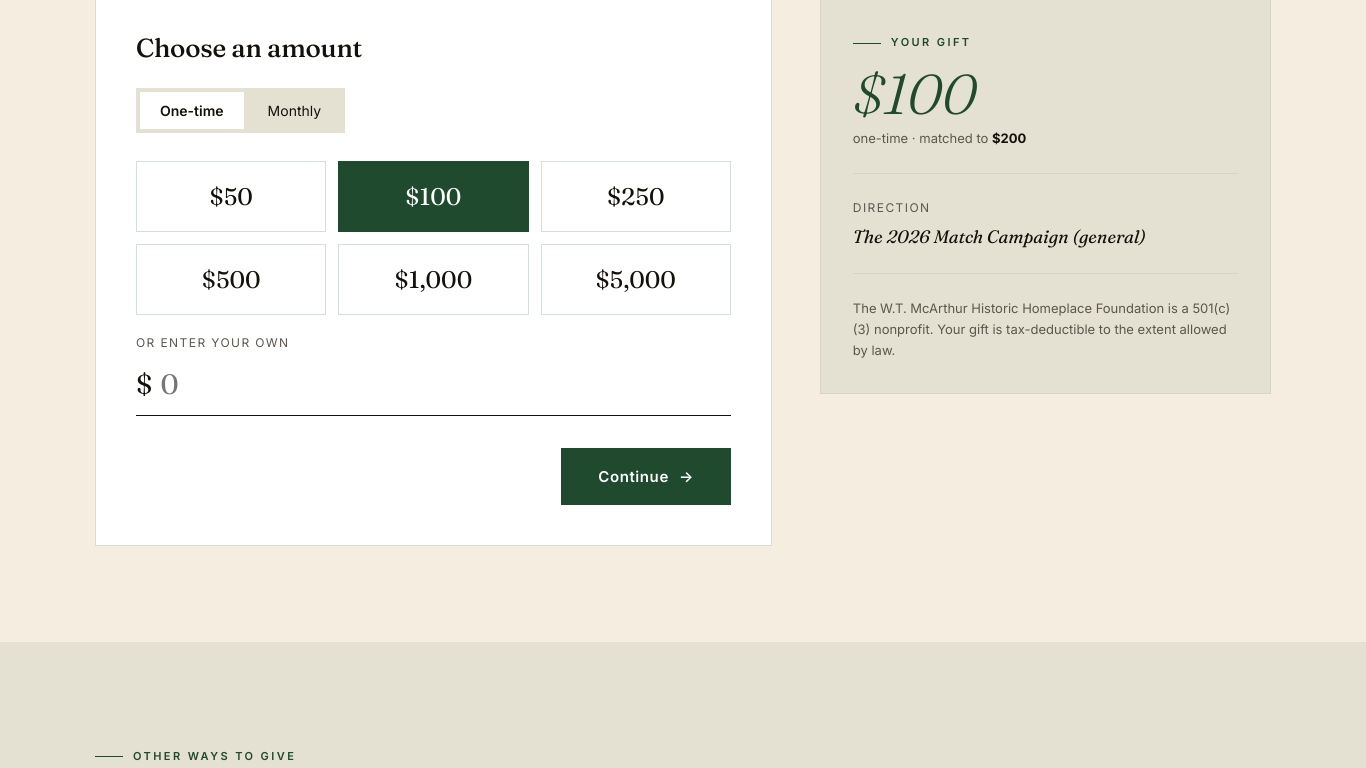
Test: DonateForm step machine › accepts a custom amount and continues
(page scrolled)
In the number field with placeholder "0": (442, 384) [152,363,731,405], type "275"
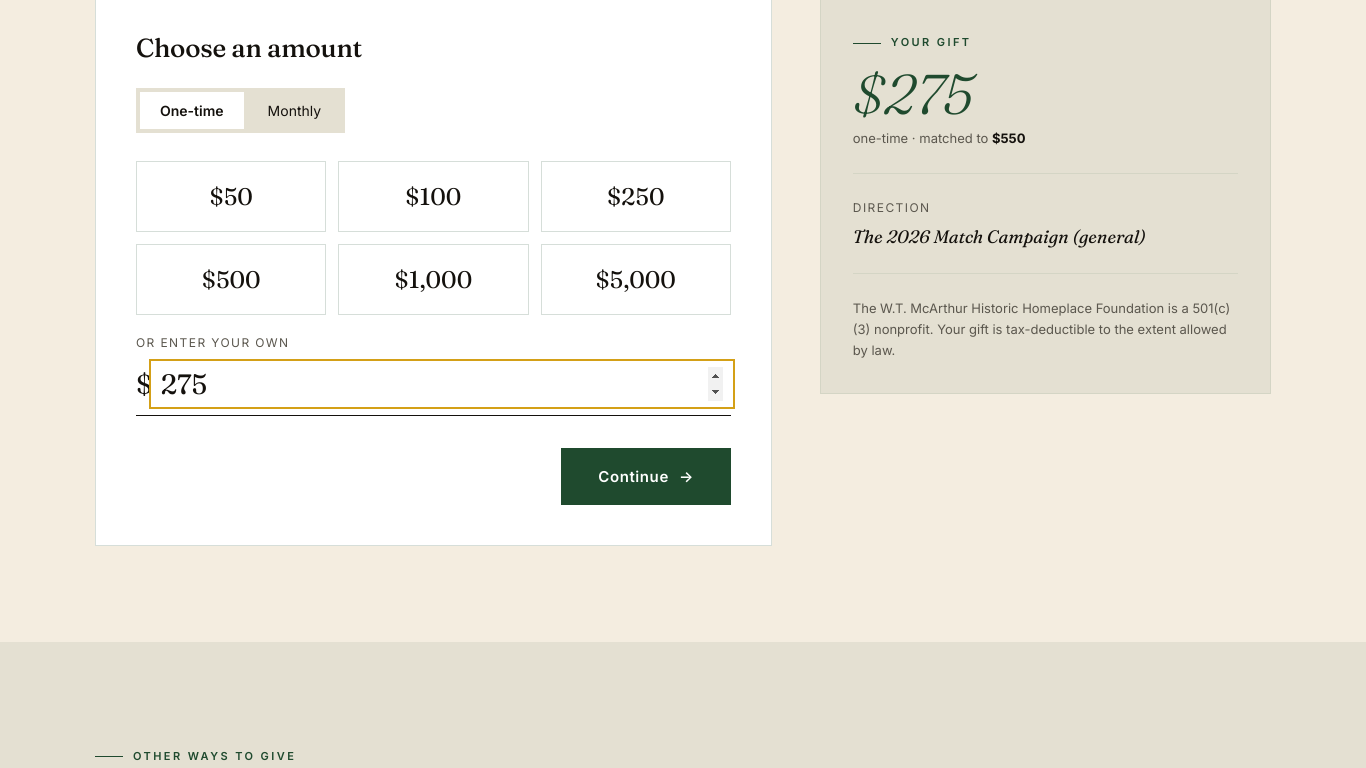
Click the button "Continue →": click(646, 476) [561,448,731,505]
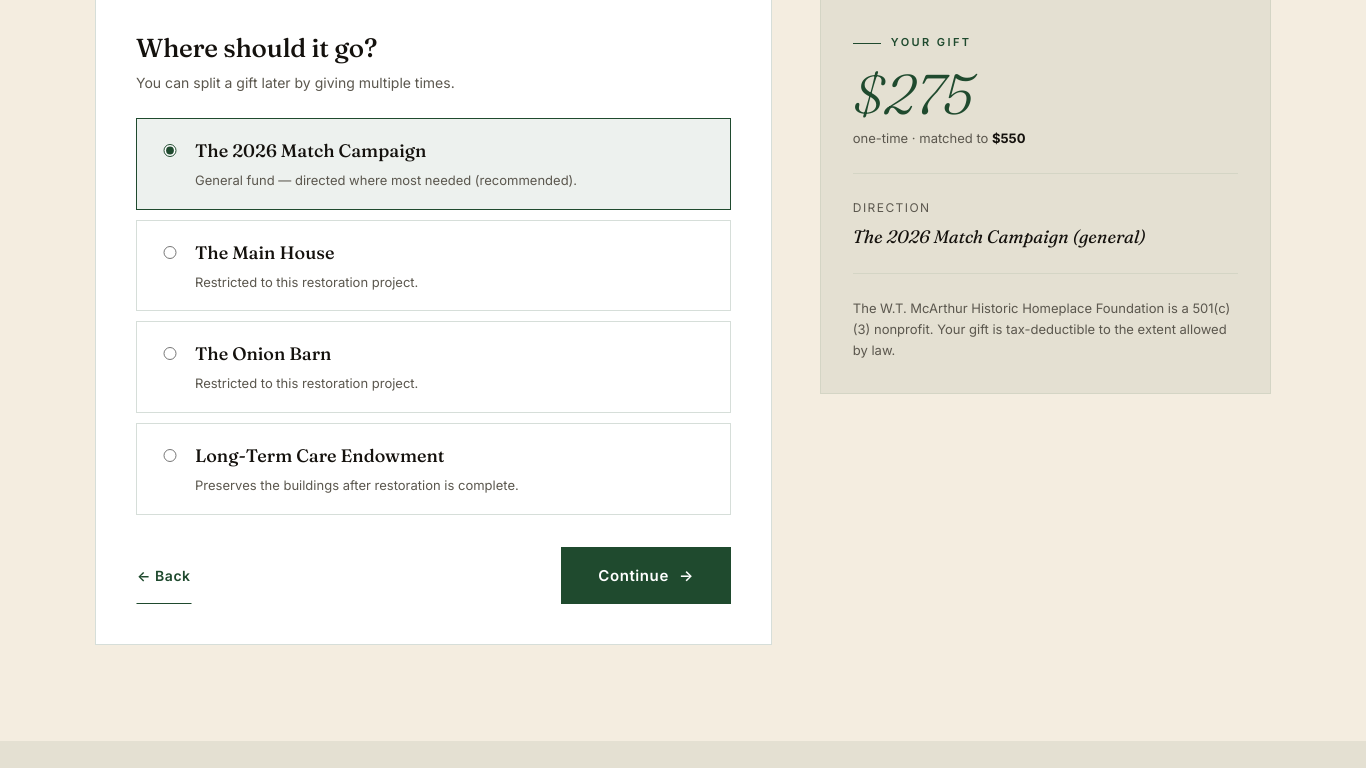
Result: the heading "Where should it go?" is shown at [136,32,377,64]
